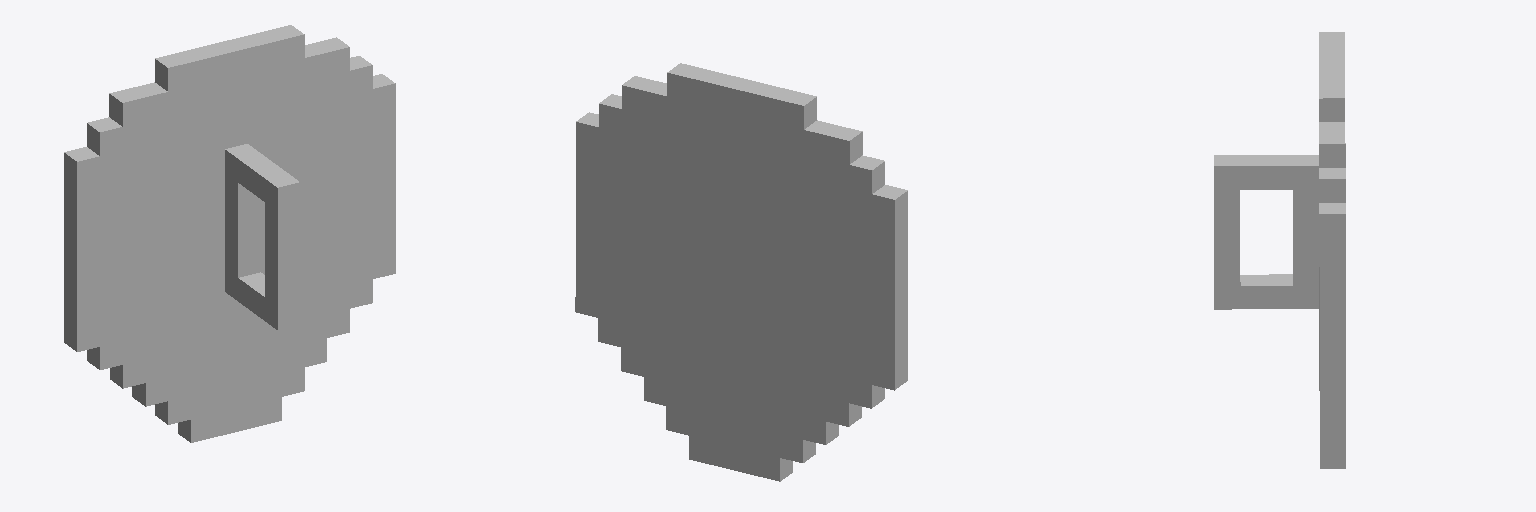
The model's file is adamant_shield.obj.
3 renders of one model, left to right at view 1: azimuth 30°, elevation 25°; view 2: azimuth 150°, elevation 25°; view 3: azimuth 270°, elevation 25°, orthographic.
Visible parts, largest first — view 1: Cube; view 2: Cube; view 3: Cube.
Part boxes in pixels (bbox=[...]): Cube: bbox=[64, 25, 395, 442]; Cube: bbox=[575, 63, 907, 481]; Cube: bbox=[1214, 32, 1345, 468].
Size of the model in its own units: 14.02 by 16.01 by 5.03.